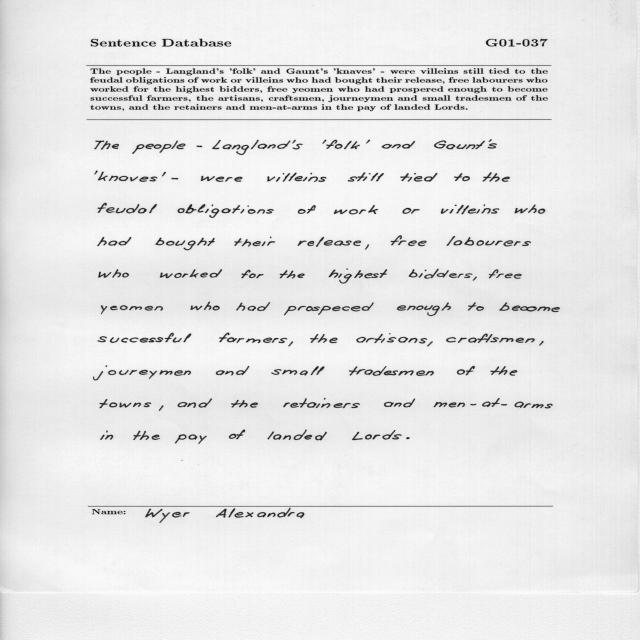word: (212, 140, 303, 155), (94, 366, 191, 380), (178, 204, 274, 218), (433, 398, 553, 409), (284, 303, 374, 316), (98, 333, 191, 343), (446, 333, 535, 343), (329, 269, 387, 284), (446, 236, 531, 246), (349, 366, 434, 376), (357, 333, 428, 344), (155, 238, 215, 251), (283, 398, 360, 408), (132, 141, 186, 154), (397, 303, 451, 316), (220, 333, 288, 343), (409, 269, 473, 279), (434, 140, 497, 150), (298, 237, 361, 247), (500, 303, 560, 313), (267, 430, 327, 440), (98, 172, 157, 182), (98, 203, 157, 213), (441, 205, 499, 215), (160, 269, 222, 278), (101, 305, 163, 314), (267, 173, 327, 182), (272, 366, 325, 376), (352, 430, 402, 440), (100, 399, 151, 408), (234, 237, 275, 247), (334, 205, 378, 214), (391, 236, 427, 246), (400, 173, 438, 182), (178, 398, 212, 408), (348, 173, 384, 182), (489, 269, 521, 279), (175, 434, 207, 444), (326, 140, 360, 149), (98, 237, 132, 246), (236, 302, 270, 311), (216, 366, 249, 375), (98, 269, 129, 278), (384, 399, 415, 408), (483, 172, 510, 182), (515, 205, 545, 214), (491, 366, 518, 376), (382, 141, 415, 149), (201, 176, 243, 182), (310, 334, 338, 343), (134, 431, 161, 440), (95, 140, 119, 150), (191, 302, 220, 310), (280, 270, 305, 279), (231, 400, 258, 408), (242, 270, 264, 278), (298, 205, 316, 214), (457, 366, 475, 375), (468, 302, 484, 311), (229, 430, 245, 439), (454, 173, 470, 181), (101, 430, 113, 440), (403, 208, 420, 214), (427, 342, 433, 347), (159, 405, 164, 411), (288, 342, 293, 347), (539, 341, 544, 346), (365, 245, 369, 250), (473, 276, 477, 281), (323, 140, 327, 144), (366, 140, 370, 144), (162, 172, 166, 176), (95, 171, 98, 175), (197, 146, 202, 148), (406, 437, 410, 439), (172, 178, 178, 179)
